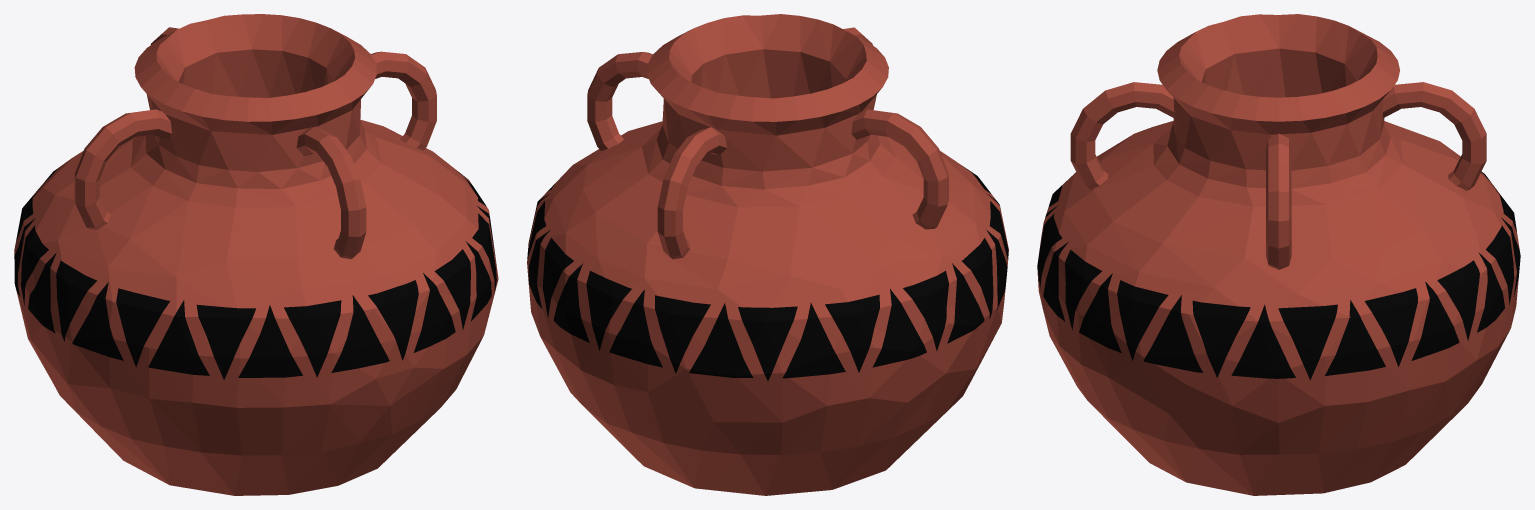
File: Pottery 23_3.fbx
3 renders of one model, left to right at view 1: azimuth 30°, elevation 25°; view 2: azimuth 150°, elevation 25°; view 3: azimuth 270°, elevation 25°, orthographic.
Visible parts, largest first — view 1: Pottery 23_3; view 2: Pottery 23_3; view 3: Pottery 23_3.
Boxes of the visible parts, x1,y1,x2,y2 form: Pottery 23_3: (14,14,498,495); Pottery 23_3: (527,14,1008,495); Pottery 23_3: (1037,14,1520,495).
Size of the model in its own units: 53.28 by 45.94 by 52.98.
